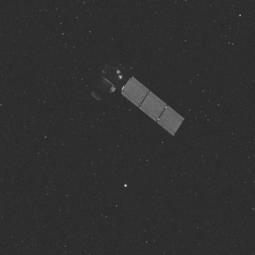earth_observation_sat_1: (78, 59, 166, 120)
